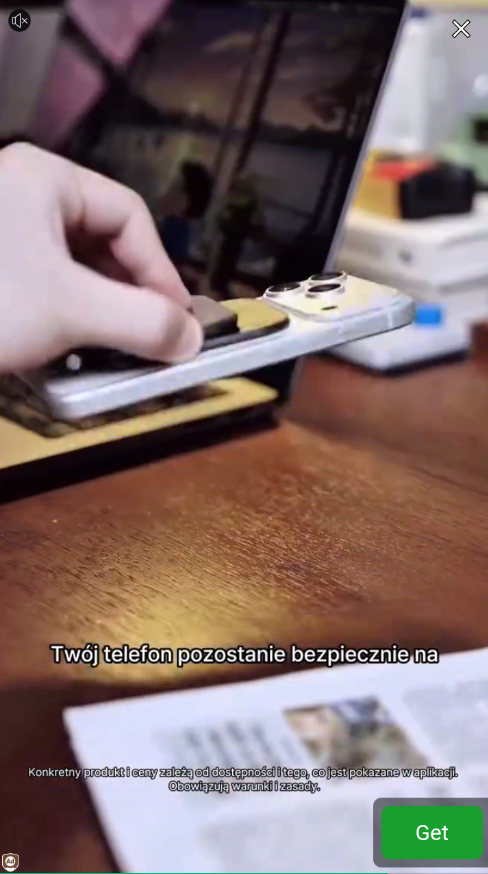close_button: (450, 15, 471, 41)
